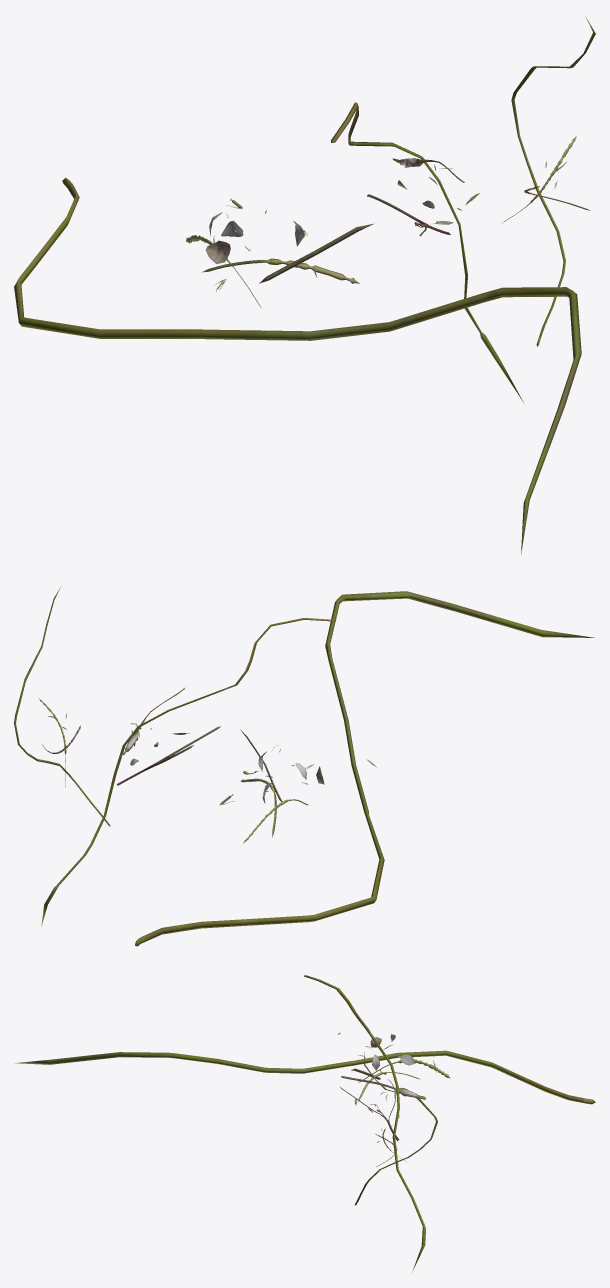
Rendered from heliophila.glb.
3 renders of one model, top to bottom at view 1: azimuth 30°, elevation 25°; view 2: azimuth 150°, elevation 25°; view 3: azimuth 270°, elevation 25°, orthographic. The views are drawn at different scales.
Parts seen in each view (by area): view 1: flower_heliophila_large; view 2: flower_heliophila_large; view 3: flower_heliophila_large.
Part boxes in pixels (<box>): flower_heliophila_large: <box>14,16,595,554</box>; flower_heliophila_large: <box>14,585,594,946</box>; flower_heliophila_large: <box>15,975,595,1272</box>.
Size of the model in its own units: 0.6341 by 0.5001 by 1.16.
1 material, 1 textured.
